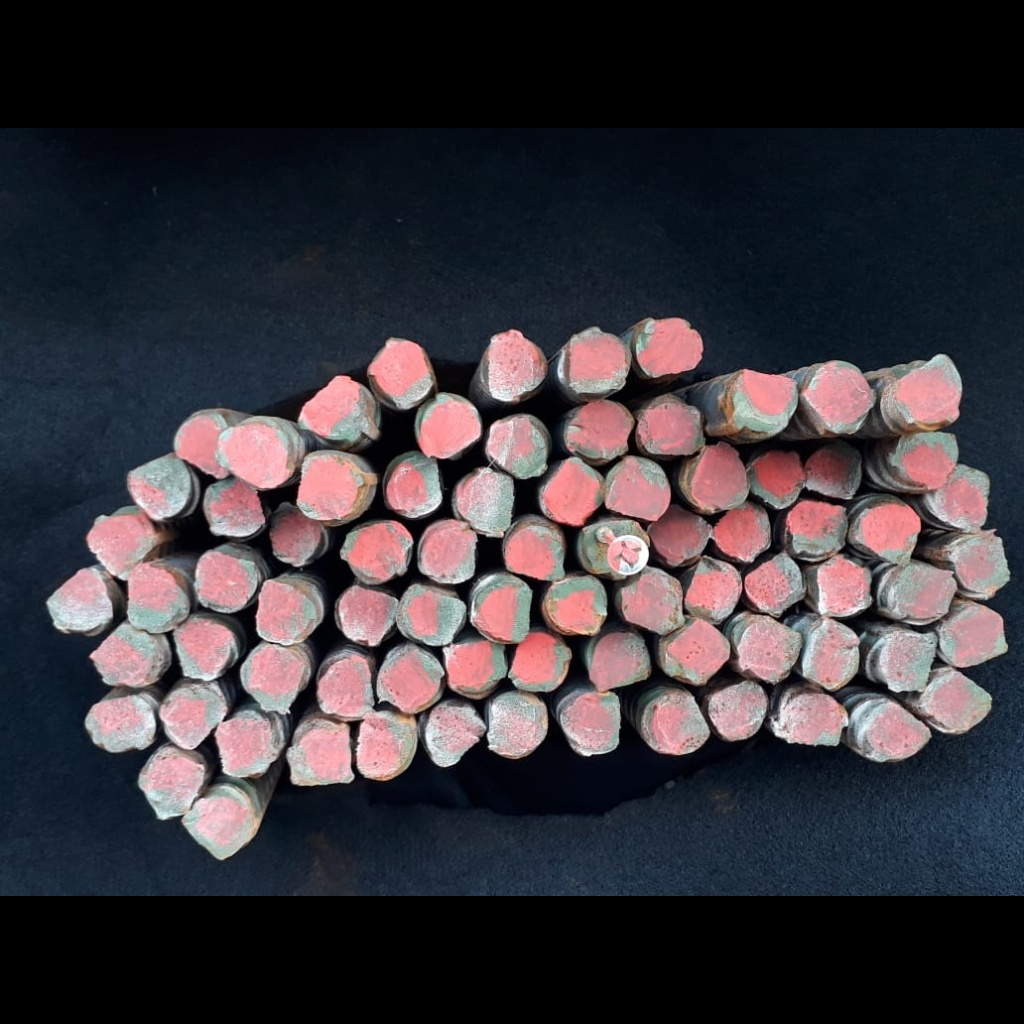dipstick: (217, 423, 291, 488), (806, 361, 872, 433), (182, 796, 254, 860), (300, 376, 371, 440), (897, 354, 961, 424), (369, 338, 432, 409), (239, 645, 304, 713), (297, 455, 364, 520), (541, 457, 605, 525), (664, 619, 730, 684), (126, 457, 193, 521), (343, 521, 411, 584), (396, 584, 465, 646), (799, 619, 860, 689), (46, 568, 112, 632), (378, 647, 442, 713), (604, 457, 670, 521), (622, 567, 685, 634), (926, 463, 987, 532), (161, 687, 227, 750), (140, 753, 202, 820), (685, 444, 749, 508), (487, 692, 548, 759), (85, 695, 156, 752), (88, 515, 151, 579), (734, 369, 798, 432), (858, 503, 921, 567), (641, 695, 709, 754), (489, 332, 547, 401), (128, 569, 190, 633), (455, 469, 514, 536), (636, 318, 703, 377), (90, 627, 155, 687), (194, 552, 258, 612), (488, 414, 548, 478), (565, 400, 632, 457), (569, 329, 630, 391), (256, 581, 316, 644), (357, 717, 417, 780), (650, 502, 710, 565), (578, 520, 649, 573), (925, 674, 991, 731), (685, 555, 741, 622), (890, 433, 958, 488), (739, 621, 800, 682), (173, 618, 233, 680), (288, 725, 351, 784), (425, 706, 486, 766), (545, 575, 606, 635), (508, 631, 569, 691), (561, 693, 619, 756), (946, 608, 1007, 667), (174, 414, 230, 478), (864, 703, 930, 757), (338, 586, 398, 645), (474, 579, 531, 641), (713, 500, 770, 562), (590, 633, 650, 691), (745, 553, 803, 613), (203, 480, 264, 537), (387, 455, 442, 518), (421, 401, 480, 459), (787, 501, 848, 557), (804, 441, 862, 499), (710, 681, 767, 740), (444, 640, 507, 693), (215, 719, 273, 776), (420, 522, 475, 582), (747, 451, 804, 508), (319, 656, 372, 717), (506, 525, 564, 580), (955, 535, 1010, 592), (268, 507, 321, 565), (817, 557, 869, 616), (896, 567, 955, 618), (638, 404, 698, 453), (785, 694, 841, 746), (886, 633, 935, 692)
